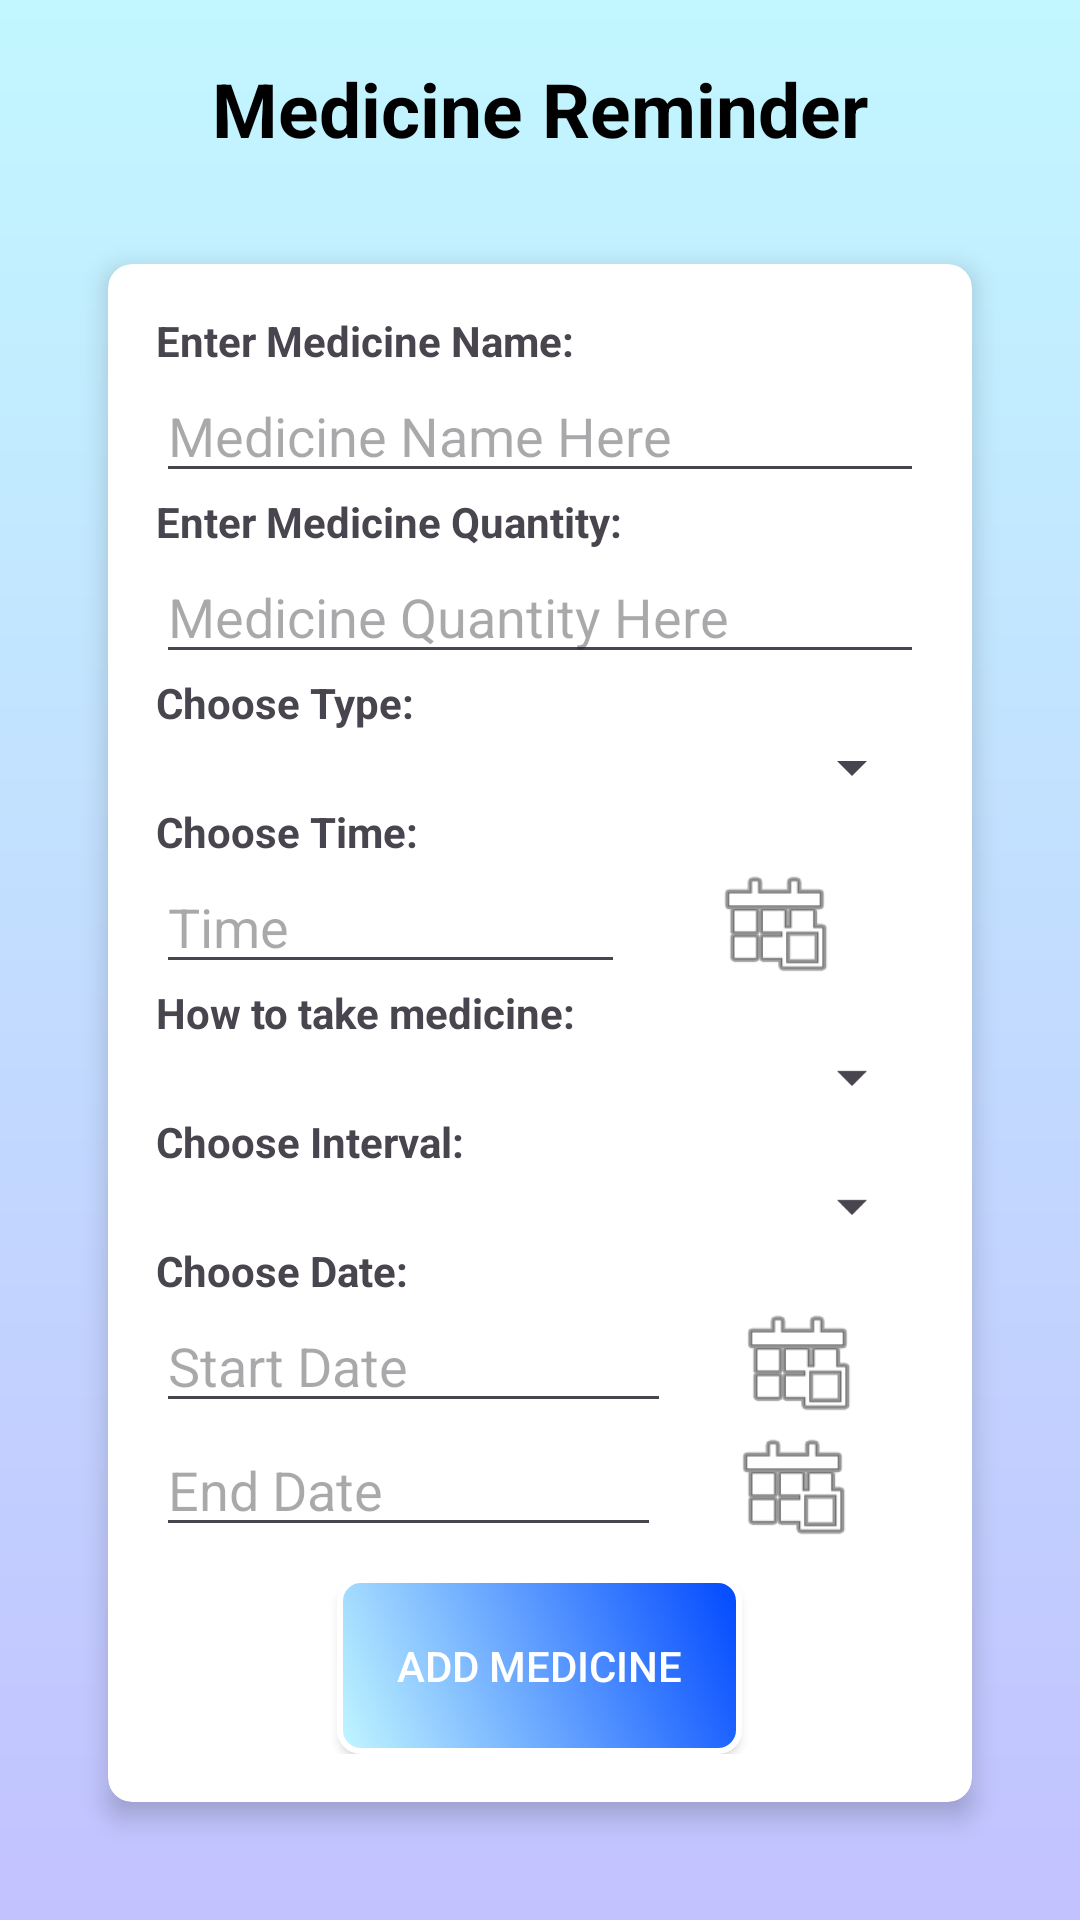

Icon click points for this 1080px×1920px phone screenshot, format point (x, y):
today: point (776, 924), point (799, 1363), point (794, 1487)
